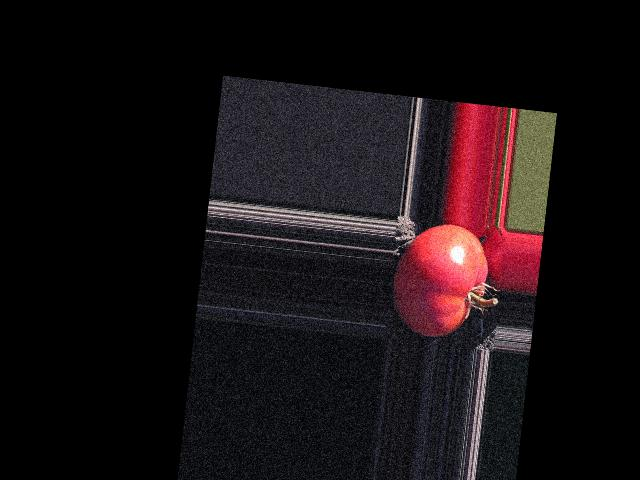tomato: (387, 219, 491, 342)
